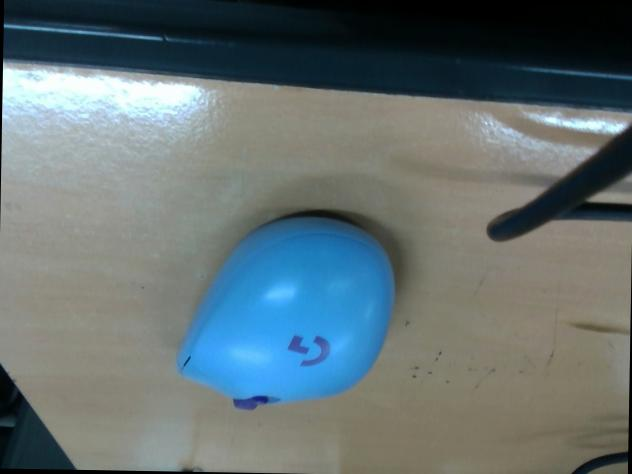mouse: (176, 211, 397, 410)
